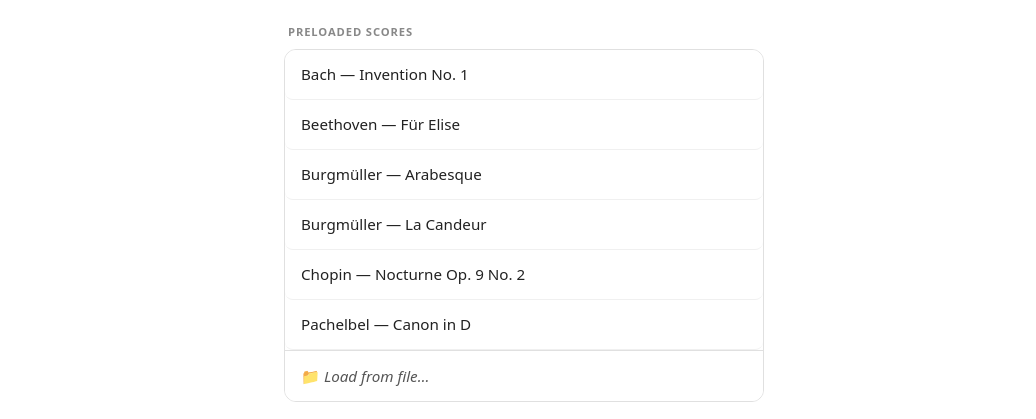
Test: PlayScorePlugin — US1: Selection screen and Back button › shows error message when status === "error"
This screenshot has width=1036, height=419.
Click the button "Bach — Invention No. 1": (385, 74) [285,50,763,100]
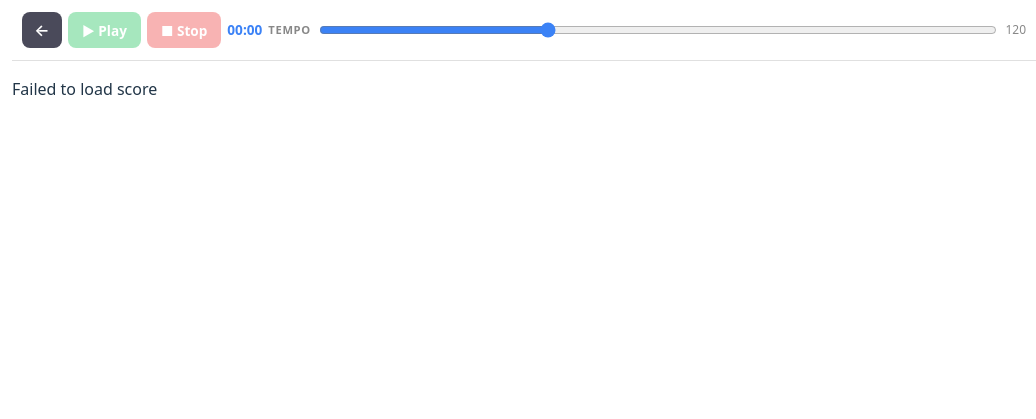
Check: the text "Failed to load score" is shown, box [12,78,157,100]
